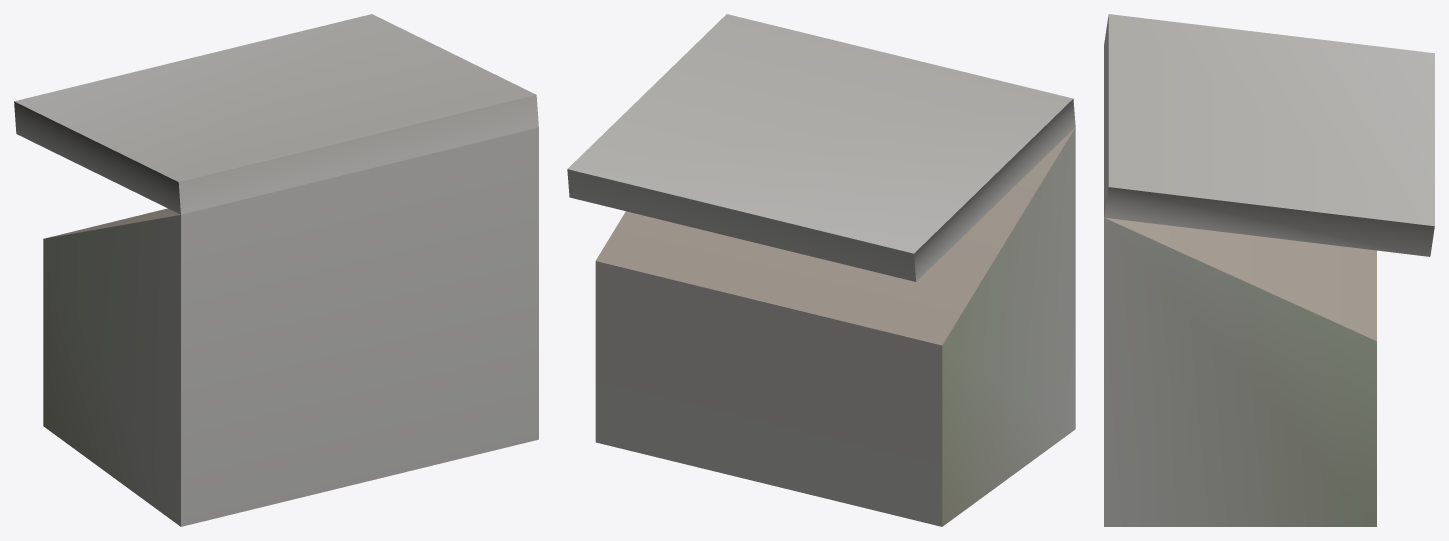
File: detail-dumpster-open.glb
3 views of the same model, side by side, from view 1: azimuth 30°, elevation 25°; view 2: azimuth 150°, elevation 25°; view 3: azimuth 270°, elevation 25° (orthographic). The views are drawn at different scales.
Parts seen in each view (by area): view 1: detail-dumpster-open; view 2: detail-dumpster-open; view 3: detail-dumpster-open.
Part boxes in pixels (x1=…): detail-dumpster-open: x1=14, y1=14, x2=538, y2=526; detail-dumpster-open: x1=567, y1=14, x2=1075, y2=526; detail-dumpster-open: x1=1104, y1=14, x2=1434, y2=526.
Size of the model in its own units: 0.6 by 0.5496 by 0.4846.
